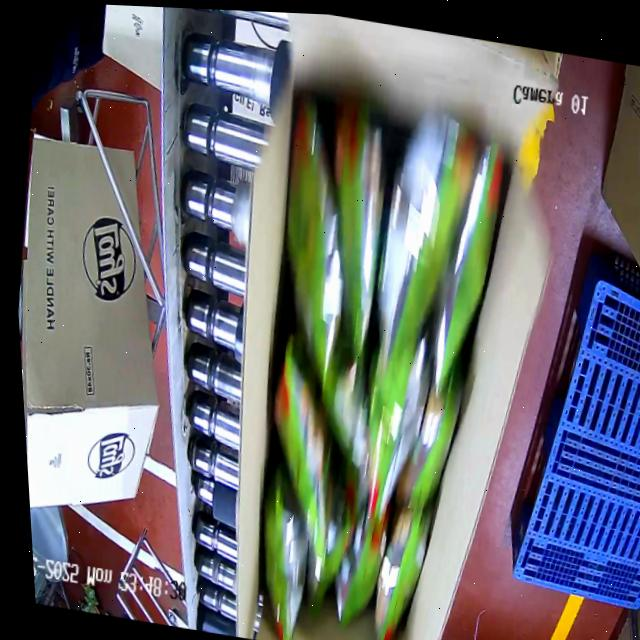YOGURT_HERB: (223, 99, 534, 640)
